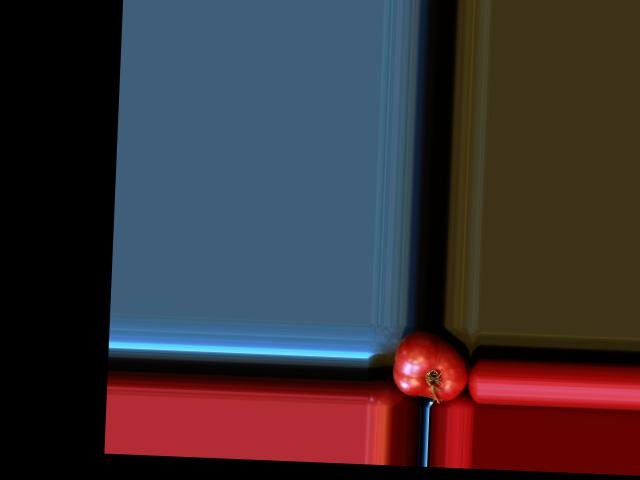tomato: (392, 329, 469, 401)
